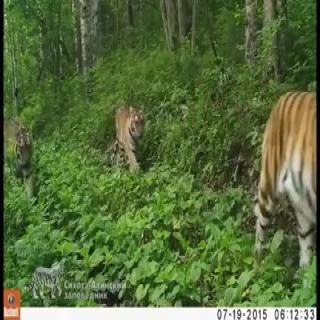Tiger: (251, 83, 320, 272), (114, 99, 147, 181), (12, 87, 35, 196)
